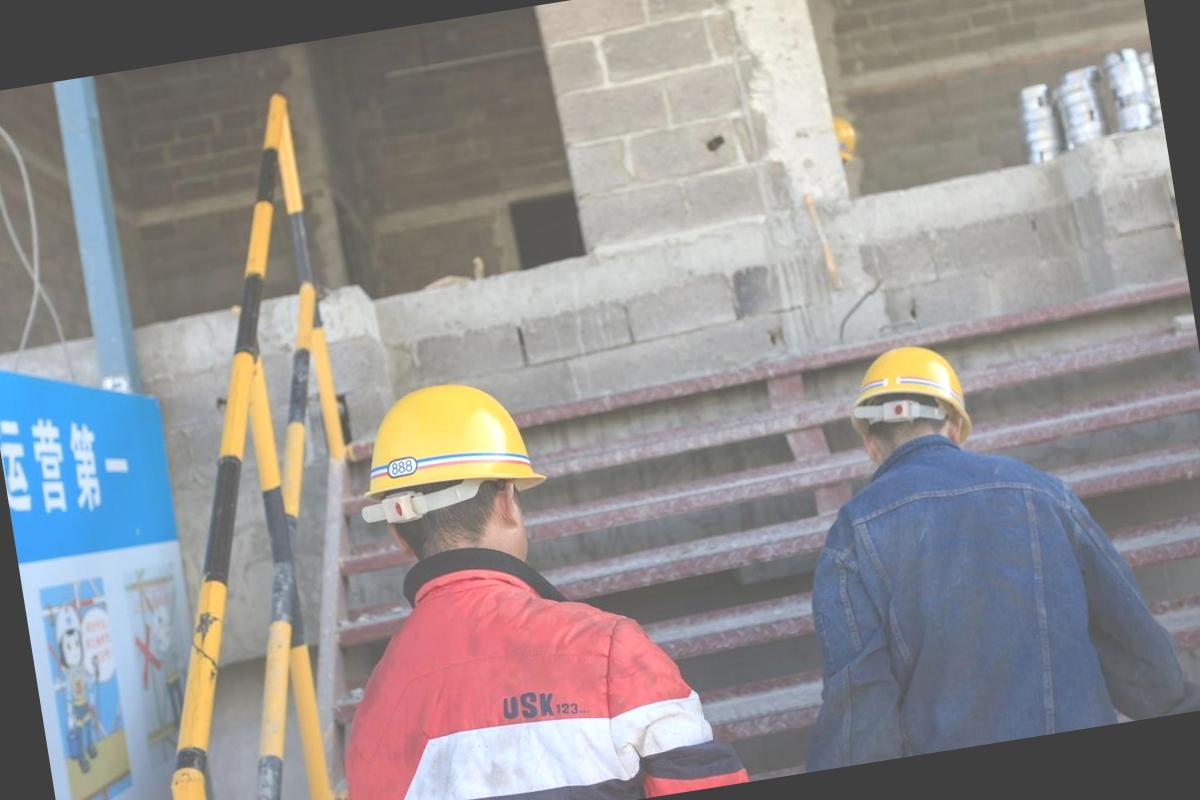helmet: (325, 361, 566, 538), (823, 332, 991, 462)
no_vest: (776, 418, 1151, 769), (296, 521, 732, 800)
person: (256, 330, 757, 800), (751, 304, 1166, 770)
